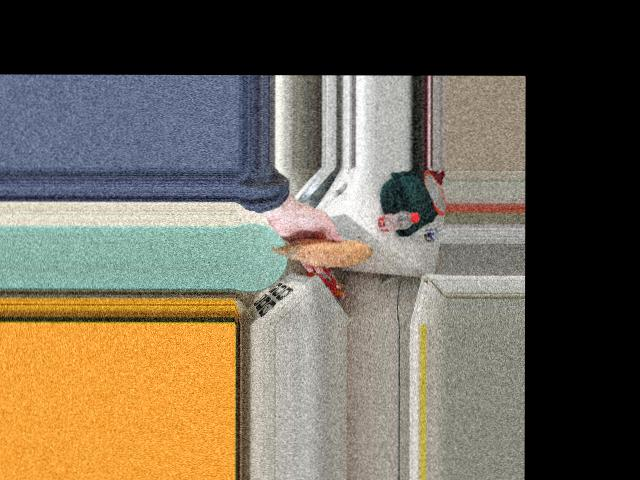sweet_potato: (292, 232, 360, 262)
